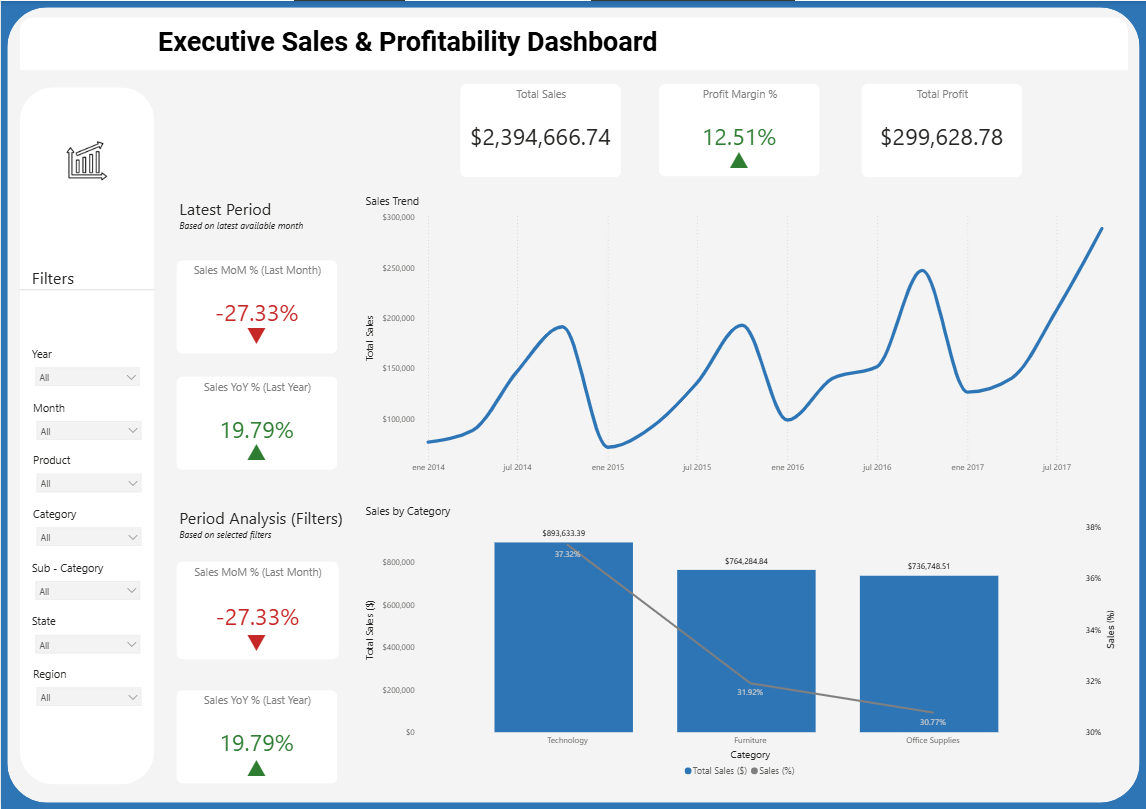

The page's visual inventory and layout, read from the dashboard file:
{"tool":"powerbi","page":{"name":"Executive Overview","canvas":[1700,1200],"ordinal":0},"visuals":[{"type":"card","title":"Total Sales","fields":{"Values":["Medidas_DAX.Total Sales"]},"box":[670,88,240,140],"z":0},{"type":"textbox","box":[28.2,260,123.3,48.9],"z":0,"group":"g1"},{"type":"lineChart","title":"Sales Trend","fields":{"Y":["Medidas_DAX.Total Sales"],"Category":["dim_date.date.Variación.Jerarquía de fechas.Año","dim_date.date.Variación.Jerarquía de fechas.Trimestre"]},"box":[524,264,1126,450],"z":1000},{"type":"shape","box":[16,270,200,58.9],"z":1000,"group":"g1"},{"type":"lineStackedColumnComboChart","title":"Sales by Category","fields":{"Category":["dim_product.category"],"Y":["Medidas_DAX.Total Sales"],"Y2":["Medidas_DAX.%Sales"]},"box":[524,736,1126,410],"z":2000},{"type":"card","title":"Total Profit","fields":{"Values":["Medidas_DAX.Total Profit"]},"box":[1262,88,240,140],"z":3000},{"type":"textbox","box":[262,22,946,80],"z":4000},{"type":"card","title":"Profit Margin %","fields":{"Values":["Medidas_DAX.Profit Margin %"]},"box":[968,88,240,140],"z":4000,"group":"g3"},{"type":"shape","box":[18,26,200,1140],"z":5000},{"type":"group","id":"g1","title":"Group 1","box":[16,260,200,70],"z":6000},{"type":"slicer","title":"Category","fields":{"Values":["dim_product.category"]},"box":[30,615.3,175.6,80],"z":6000,"group":"g2"},{"type":"group","id":"g2","title":"Group 2","box":[28.9,377,176.7,555],"z":7000},{"type":"slicer","title":"Month","fields":{"Values":["dim_date.date.Variación.Jerarquía de fechas.Mes"]},"box":[30,456.4,175.6,80],"z":7000,"group":"g2"},{"type":"slicer","title":"State","fields":{"Values":["dim_region.state"]},"box":[28.9,773.1,175.6,80],"z":8000,"group":"g2"},{"type":"card","title":"Sales YoY % (Last Year)","fields":{"Values":["Medidas_DAX.Sales YoY % (KPI)"]},"box":[246,926,240,140],"z":8000},{"type":"card","title":"Sales MoM % (Last Month)","fields":{"Values":["Medidas_DAX.Sales MoM % (KPI)"]},"box":[246,736,242,146],"z":9000},{"type":"slicer","title":"Region","fields":{"Values":["dim_region.region"]},"box":[30,852,175.6,80],"z":9000,"group":"g2"},{"type":"card","title":"Sales YoY % (Last Year)","fields":{"Values":["Medidas_DAX.YoY % KPI Global"]},"box":[246,444,240,140],"z":10000},{"type":"slicer","title":"Sub - Category","fields":{"Values":["dim_product.sub_category"]},"box":[28.9,694.2,175.6,80],"z":10000,"group":"g2"},{"type":"card","title":"Sales MoM % (Last Month)","fields":{"Values":["Medidas_DAX.MoM % Global"]},"box":[246,264,240,140],"z":11000},{"type":"slicer","title":"Product","fields":{"Values":["dim_product.product_name"]},"box":[30,535.3,175.6,80],"z":11000,"group":"g2"},{"type":"textbox","box":[246,160,222,70],"z":12000},{"type":"slicer","title":"Year","fields":{"Values":["dim_date.year"]},"box":[29,377,175,80],"z":12000,"group":"g2"},{"type":"textbox","box":[246,650,278,64],"z":13000},{"type":"card","title":"Sales MoM % (Last Month)","fields":{"Values":["Formats.Sales MoM Indicator"]},"box":[326,826,80,60],"z":14000},{"type":"card","title":"Sales MoM % (Last Month)","fields":{"Values":["Formats.Profit_Card Indicator"]},"box":[1048,172,80,58],"z":14005,"group":"g3"},{"type":"card","title":"Sales MoM % (Last Month)","fields":{"Values":["Formats.Sales YoY Indicator"]},"box":[326,1012,80,58],"z":15000},{"type":"card","title":"Sales MoM % (Last Month)","fields":{"Values":["Formats.Sales MoMGlobal Indicator"]},"box":[326,526,80,60],"z":16000},{"type":"card","title":"Sales MoM % (Last Month)","fields":{"Values":["Formats.Sales YoYGlobal Indicator"]},"box":[326,348,80,58],"z":17000},{"type":"group","id":"g3","title":"Group 3","box":[968,88,240,142],"z":18000},{"type":"image","box":[64,62,104,92],"z":19000}]}

Visuals, with their boxes in screenshot pixels (x1, y1, x2, y2), scaled from the page's 1700x1200 canvas onto the 1146x809 screenshot:
"Total Sales" card: bbox=[452, 59, 613, 154]
textbox: bbox=[19, 175, 102, 208]
"Sales Trend" lineChart: bbox=[353, 178, 1112, 481]
shape: bbox=[11, 182, 146, 222]
"Sales by Category" lineStackedColumnComboChart: bbox=[353, 496, 1112, 773]
"Total Profit" card: bbox=[851, 59, 1013, 154]
textbox: bbox=[177, 15, 814, 69]
"Profit Margin %" card: bbox=[653, 59, 814, 154]
shape: bbox=[12, 18, 147, 786]
"Group 1" group: bbox=[11, 175, 146, 222]
"Category" slicer: bbox=[20, 415, 139, 469]
"Group 2" group: bbox=[19, 254, 139, 628]
"Month" slicer: bbox=[20, 308, 139, 362]
"State" slicer: bbox=[19, 521, 138, 575]
"Sales YoY % (Last Year)" card: bbox=[166, 624, 328, 719]
"Sales MoM % (Last Month)" card: bbox=[166, 496, 329, 595]
"Region" slicer: bbox=[20, 574, 139, 628]
"Sales YoY % (Last Year)" card: bbox=[166, 299, 328, 394]
"Sub - Category" slicer: bbox=[19, 468, 138, 522]
"Sales MoM % (Last Month)" card: bbox=[166, 178, 328, 272]
"Product" slicer: bbox=[20, 361, 139, 415]
textbox: bbox=[166, 108, 315, 155]
"Year" slicer: bbox=[20, 254, 138, 308]
textbox: bbox=[166, 438, 353, 481]
"Sales MoM % (Last Month)" card: bbox=[220, 557, 274, 597]
"Sales MoM % (Last Month)" card: bbox=[706, 116, 760, 155]
"Sales MoM % (Last Month)" card: bbox=[220, 682, 274, 721]
"Sales MoM % (Last Month)" card: bbox=[220, 355, 274, 395]
"Sales MoM % (Last Month)" card: bbox=[220, 235, 274, 274]
"Group 3" group: bbox=[653, 59, 814, 155]
image: bbox=[43, 42, 113, 104]
